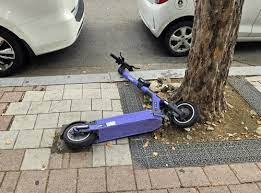fallin_kick: (58, 51, 198, 149)
